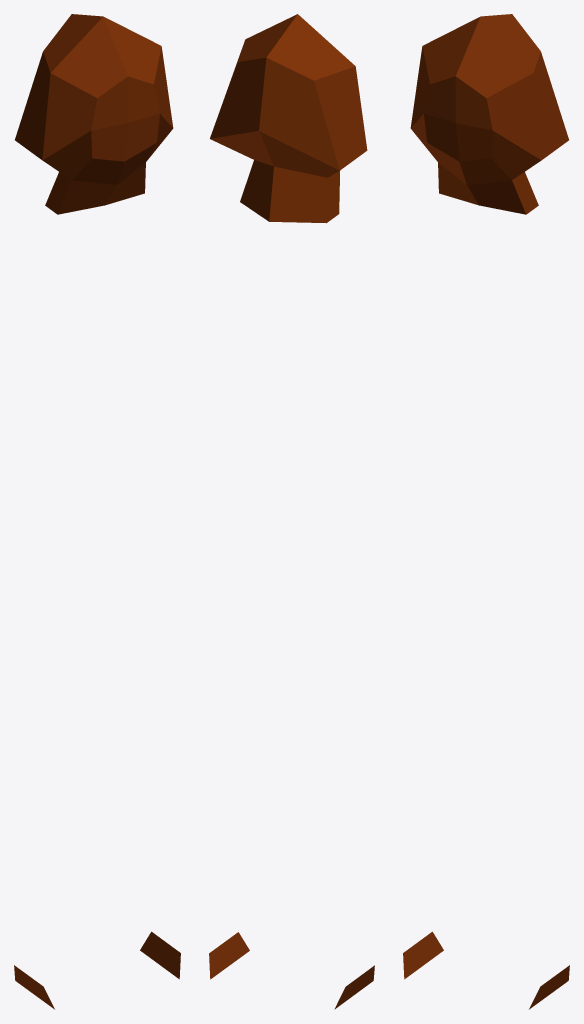
File: head-orange.fbx
3 views of the same model, side by side, from view 1: azimuth 30°, elevation 25°; view 2: azimuth 150°, elevation 25°; view 3: azimuth 330°, elevation 25° (orthographic).
Parts seen in each view (by area): view 1: Cube; view 2: Cube; view 3: Cube.
Boxes of the visible parts, x1,y1,x2,y2 form: Cube: (14,14,180,1009); Cube: (209,14,374,1009); Cube: (403,14,569,1009).
Bounding box in the file's own units: 115 × 772 × 92.6.
